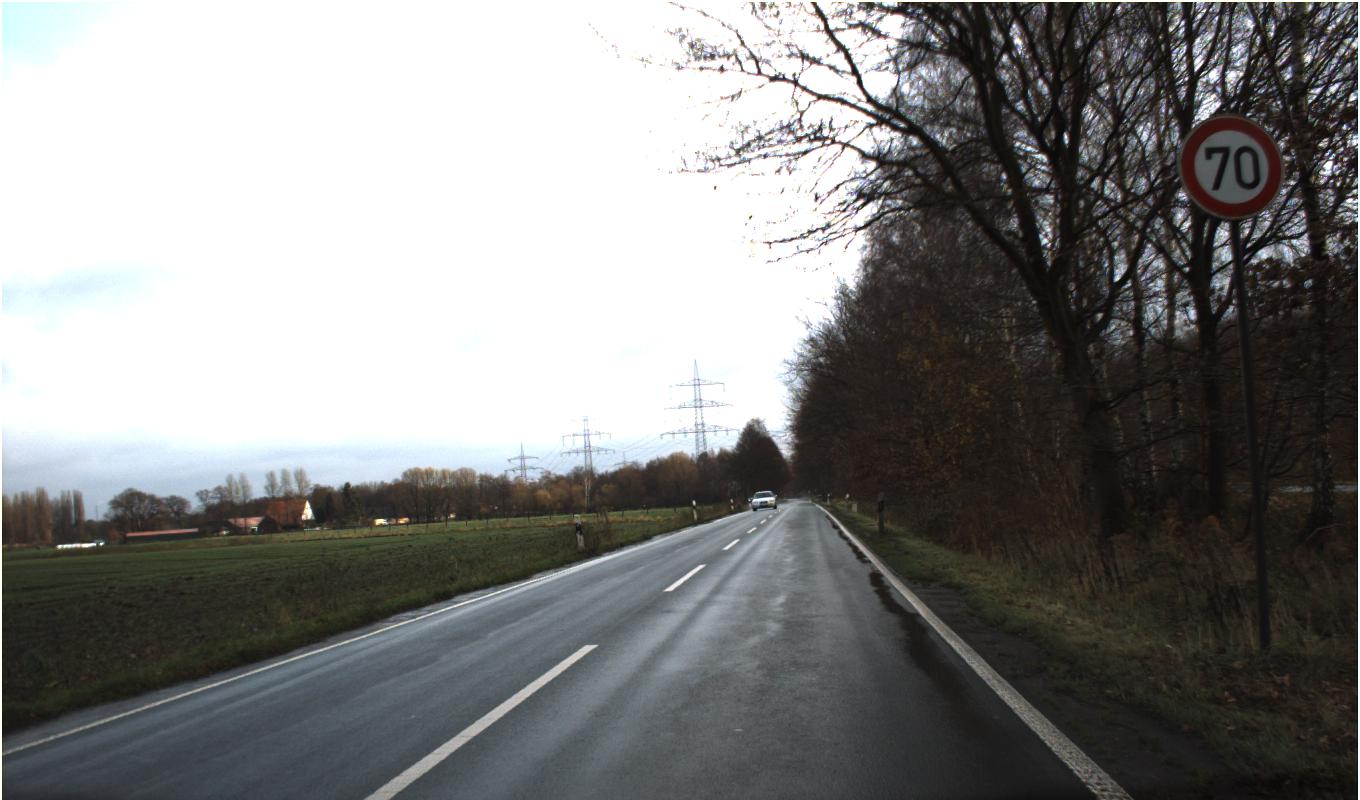prohibitory: (1177, 114, 1284, 219)
